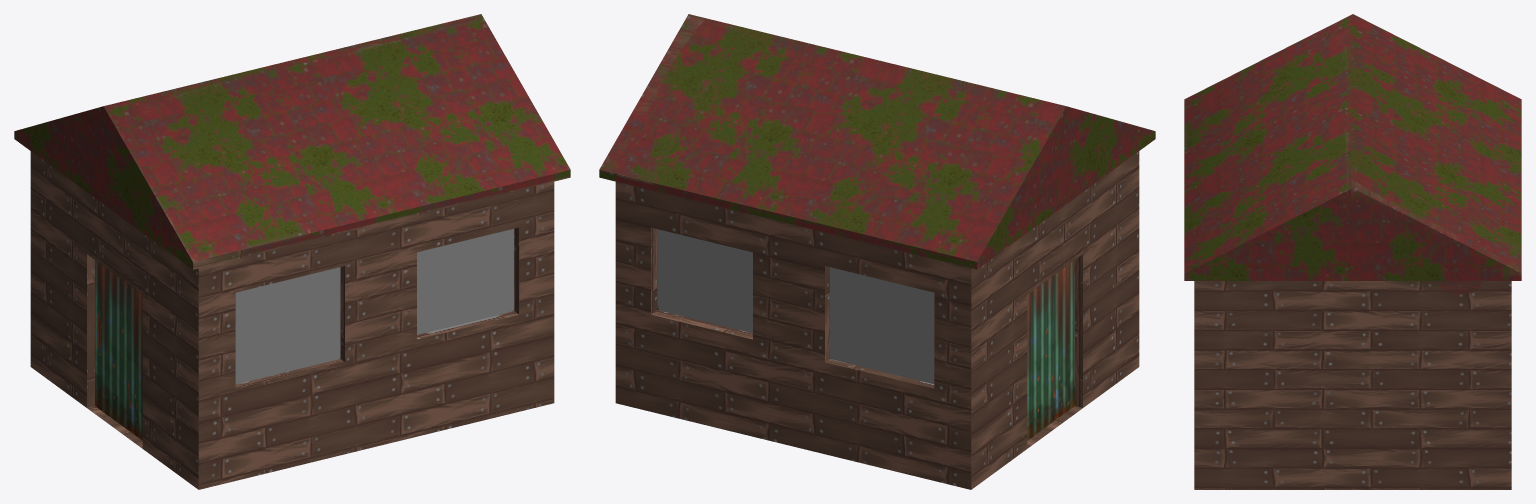
Rendered from House.fbx.
3 renders of one model, left to right at view 1: azimuth 30°, elevation 25°; view 2: azimuth 150°, elevation 25°; view 3: azimuth 270°, elevation 25°, orthographic. The views are drawn at different scales.
Parts seen in each view (by area): view 1: pCube1; view 2: pCube1; view 3: pCube1.
Boxes of the visible parts, box(x1,y1,x2,y2) form: pCube1: box(14, 14, 570, 489); pCube1: box(599, 14, 1155, 489); pCube1: box(1184, 14, 1521, 489).
Size of the model in its own units: 5.57 by 4.58 by 4.56.
1 material, 1 textured.
